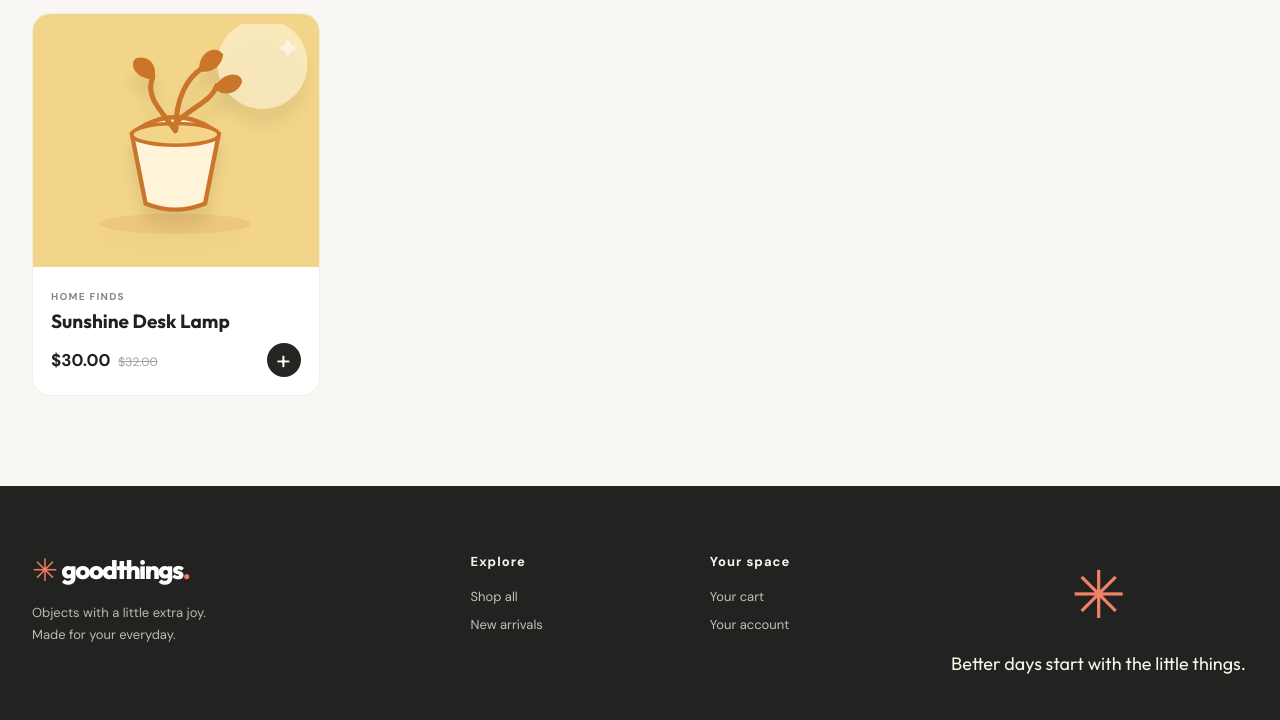
Test case: storefront flows › loads real catalog data and sends guests to sign in when adding a product
(page scrolled)
Expected: the link "Sunshine Desk Lamp" is shown, [51,309,230,333]
Click the button named "Add Sunshine Desk Lamp to cart". click: (284, 360)
box: [266,343,300,377]
(page scrolled)
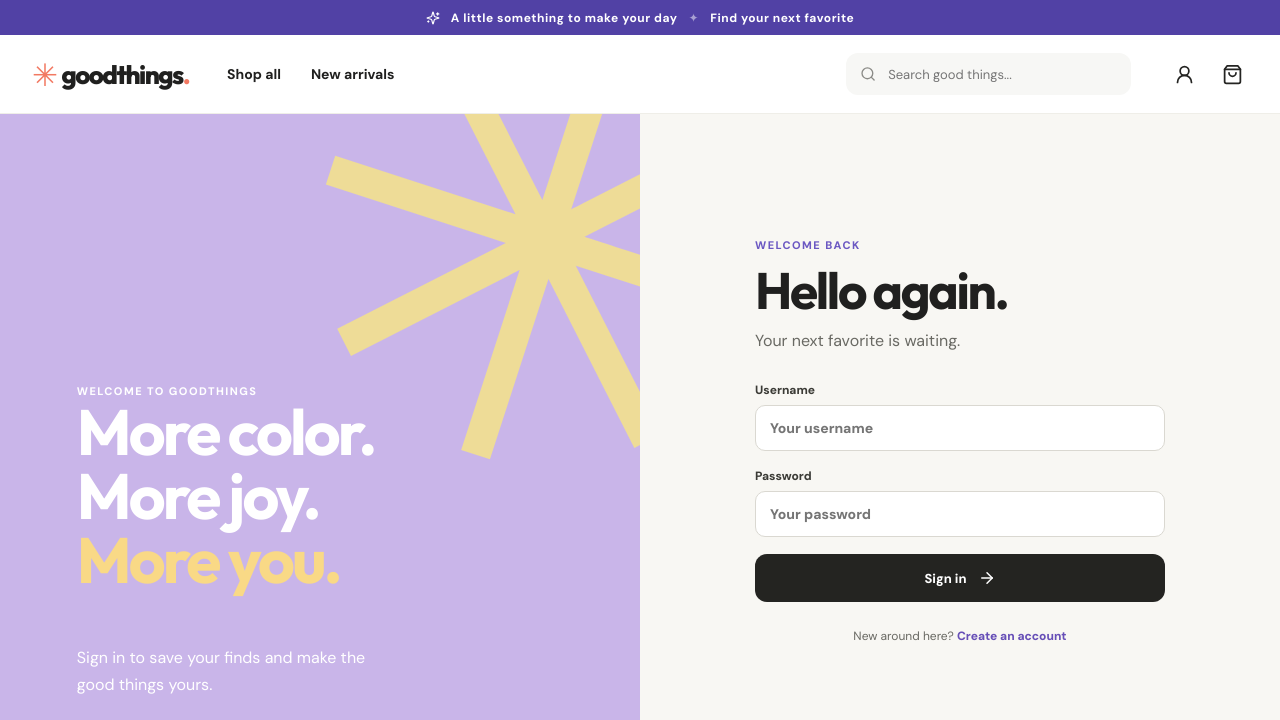
Now the heading "Hello again." is shown, box [755,258,1008,322]
